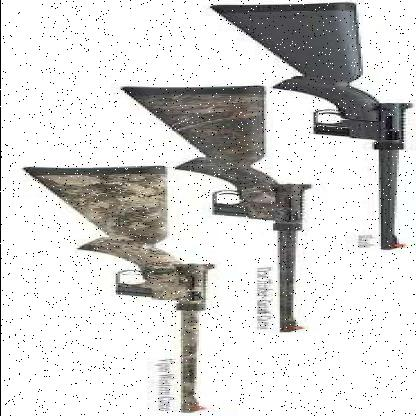rifle: (4, 154, 247, 412), (121, 72, 328, 343), (222, 0, 416, 271)
